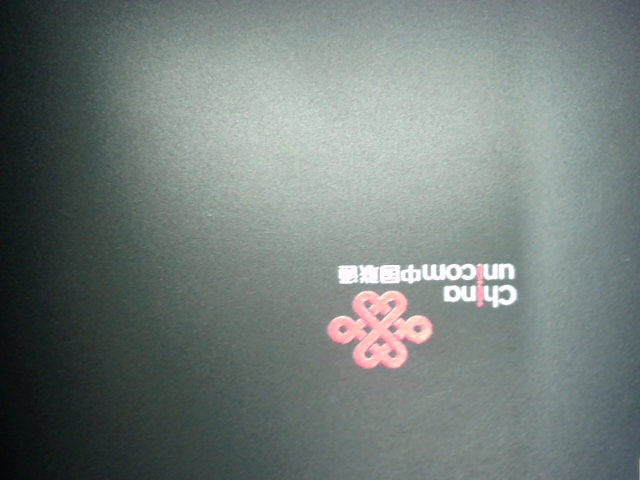AC_ChinaUnicom: (309, 255, 528, 370)
